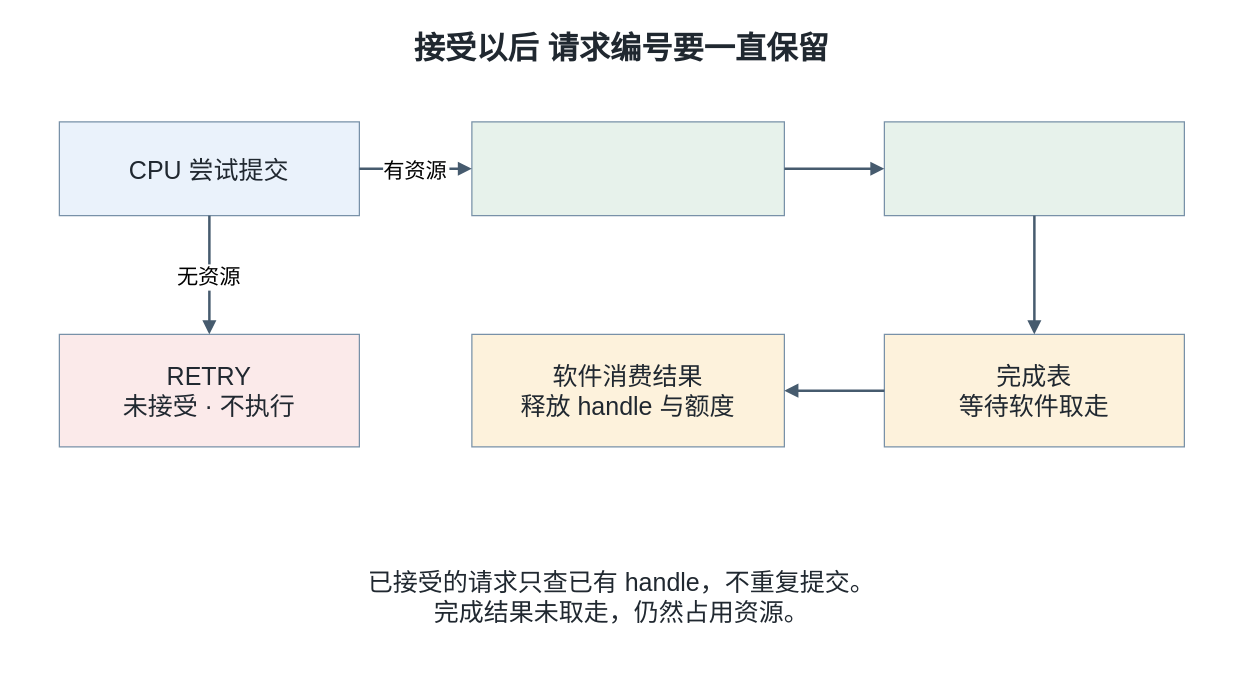
Image size: 1243x674. Some labels were removed from this diagram. The shapes that lost their labels are listed below. From the top down, each one's box as (x1, y1, x2, y2) in pixels, then its label:
(471, 121, 784, 216): Bridge 接受 占用在途额度
(883, 121, 1184, 216): 设备执行
